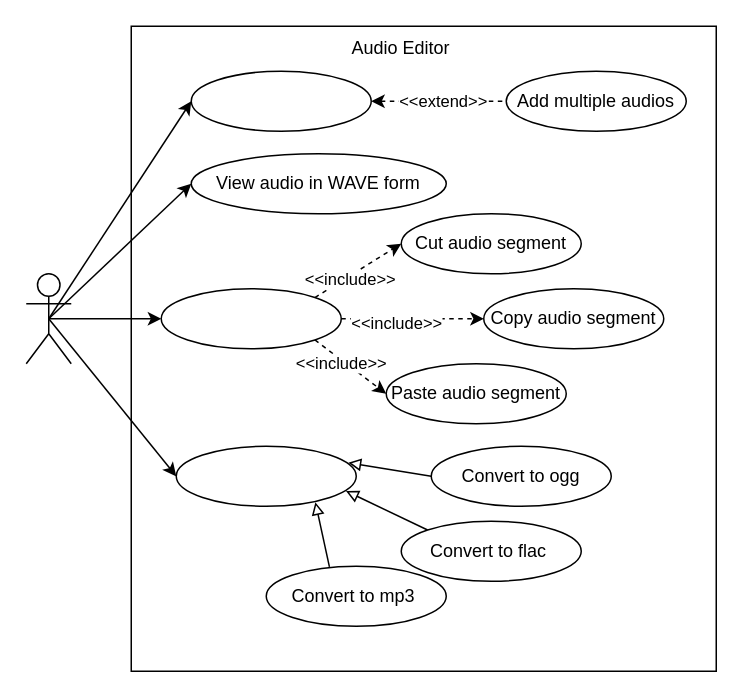
The diagram is 743 pixels wide and 698 high, and some of its shapes have lost their labels. Here are the shapes that lost their labels. From the top down, the centre of each, then its label:
pixel 280 100: Add audio
pixel 48 318: User
pixel 250 318: Edit audio
pixel 265 475: Save audio segment
